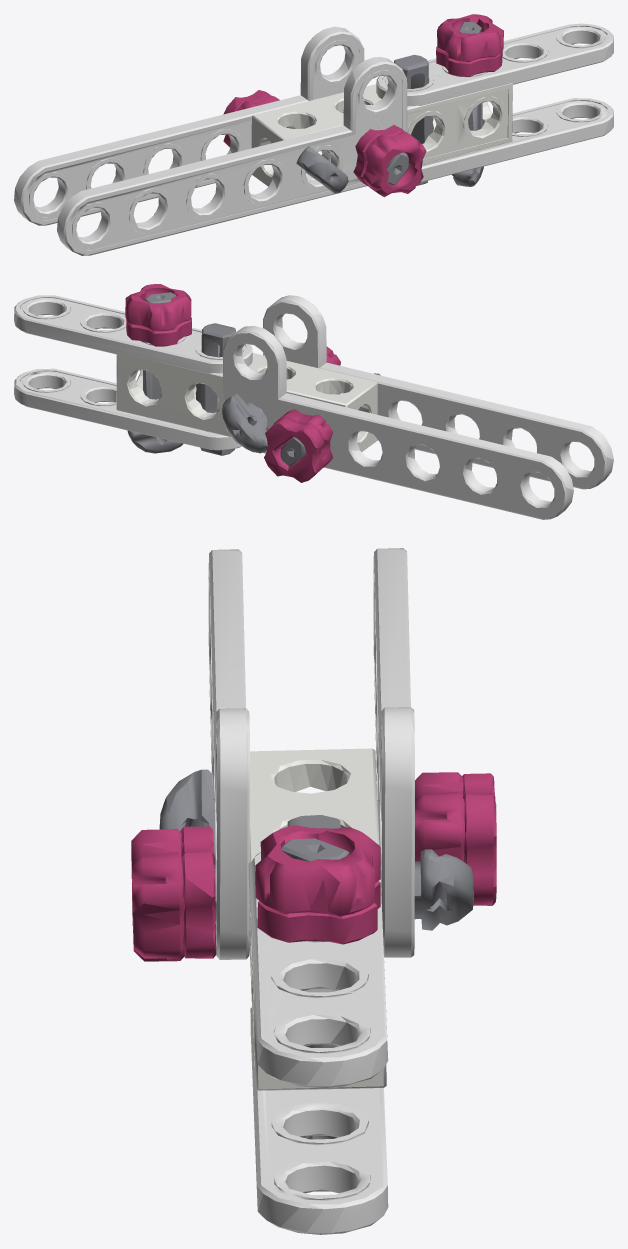
The model's file is state8.fbx.
3 renders of one model, top to bottom at view 1: azimuth 30°, elevation 25°; view 2: azimuth 150°, elevation 25°; view 3: azimuth 270°, elevation 25°, orthographic. The views are drawn at different scales.
Parts seen in each view (by area): view 1: Brace STR STD ERR BU04x01x00.25 - SPN-BRC-0003 (stemfie.org); view 2: Brace STR STD ERR BU04x01x00.25 - SPN-BRC-0003 (stemfie.org); view 3: Brace STR STD ERR BU04x01x00.25 - SPN-BRC-0003 (stemfie.org).
Boxes of the visible parts, <box> form: Brace STR STD ERR BU04x01x00.25 - SPN-BRC-0003 (stemfie.org): <box>14,14,613,255</box>; Brace STR STD ERR BU04x01x00.25 - SPN-BRC-0003 (stemfie.org): <box>14,284,613,519</box>; Brace STR STD ERR BU04x01x00.25 - SPN-BRC-0003 (stemfie.org): <box>131,548,496,1234</box>.
Size of the model in its own units: 12467 by 3433 by 3467.
